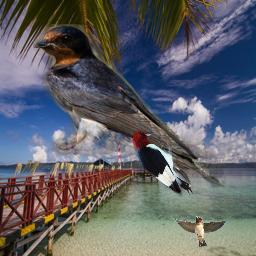Swallow: (33, 24, 228, 192), (172, 216, 228, 247)
Woodpecker: (133, 130, 195, 197)
